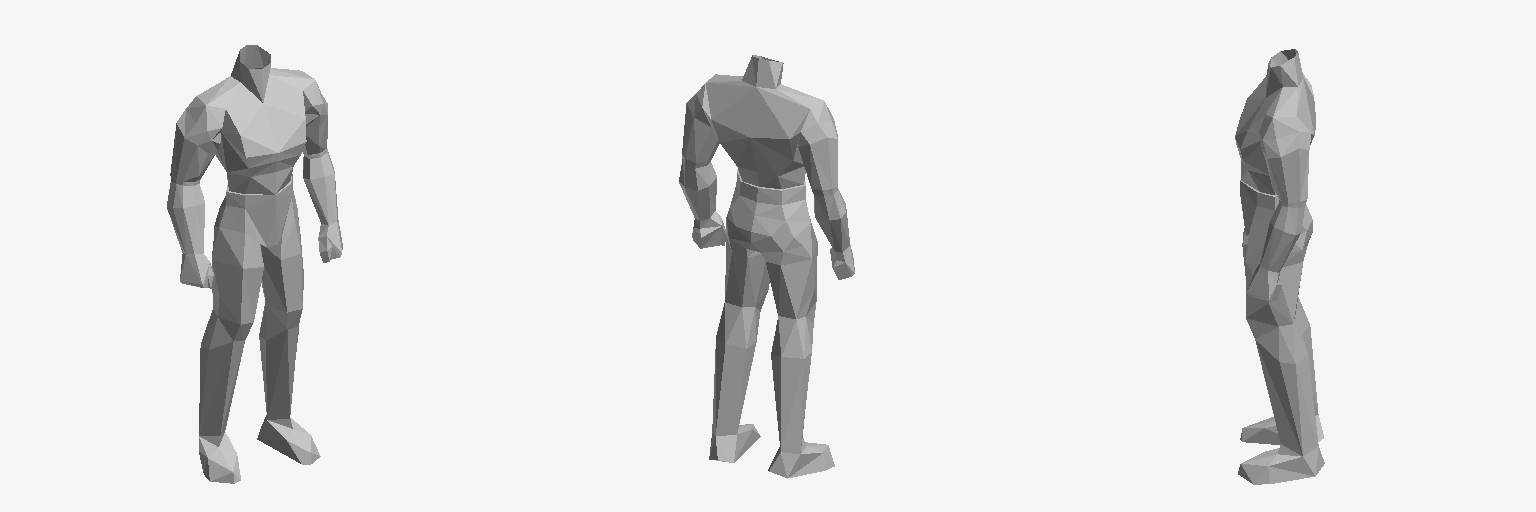
Rendered from Teste.obj.
3 renders of one model, left to right at view 1: azimuth 30°, elevation 25°; view 2: azimuth 150°, elevation 25°; view 3: azimuth 270°, elevation 25°, orthographic.
Visible parts, largest first — view 1: zm_Skin; view 2: zm_Skin; view 3: zm_Skin.
Boxes of the visible parts, <box> form: zm_Skin: <box>167,45,342,483</box>; zm_Skin: <box>679,55,854,478</box>; zm_Skin: <box>1235,49,1324,484</box>.
Bounding box in the file's own units: 2.79 × 6.67 × 1.33.